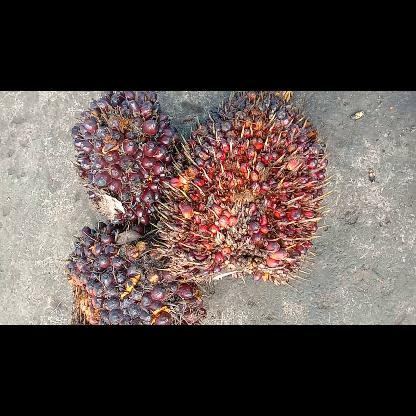Kurang masak: (70, 91, 176, 225), (65, 224, 205, 324)
TBS masak: (155, 90, 325, 278)
